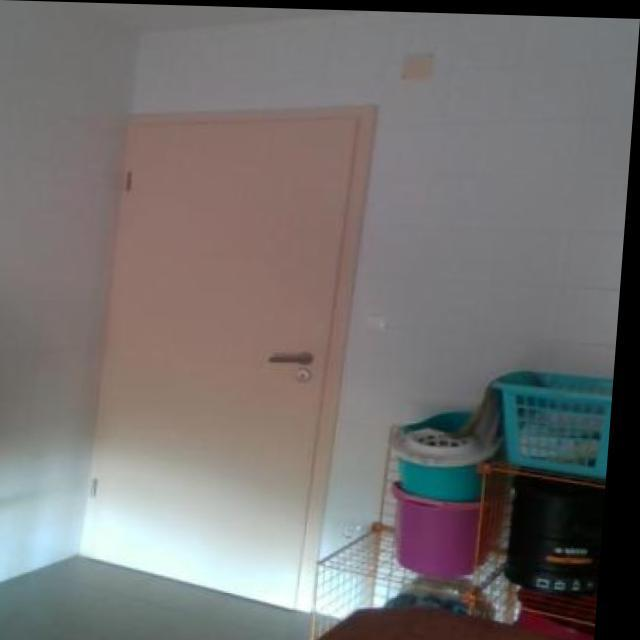door_handle: (265, 342, 326, 375)
